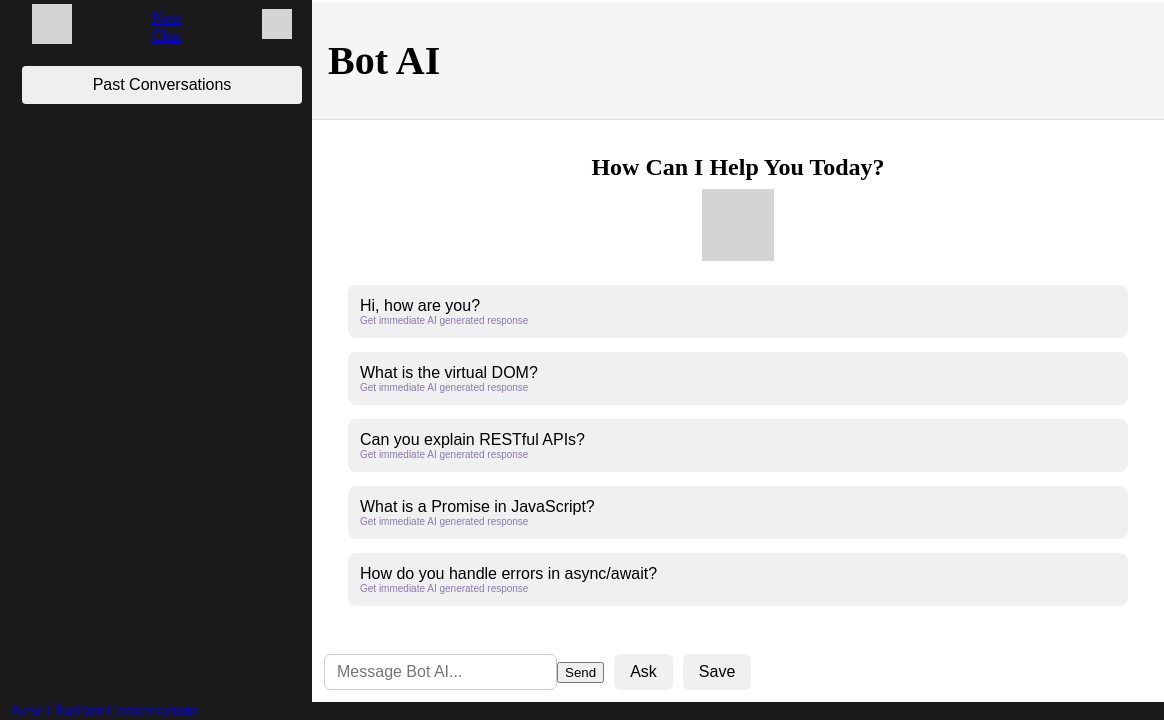
Scenario: Bot AI Application › Should show a default message if the question is not present in the static JSON data
(page scrolled)
Type "What is the capital of Mars?" into the field with placeholder "Message Bot AI...".
click(441, 672); type("What is the capital of Mars?")  # box top-left (324, 654), bottom-right (557, 690)
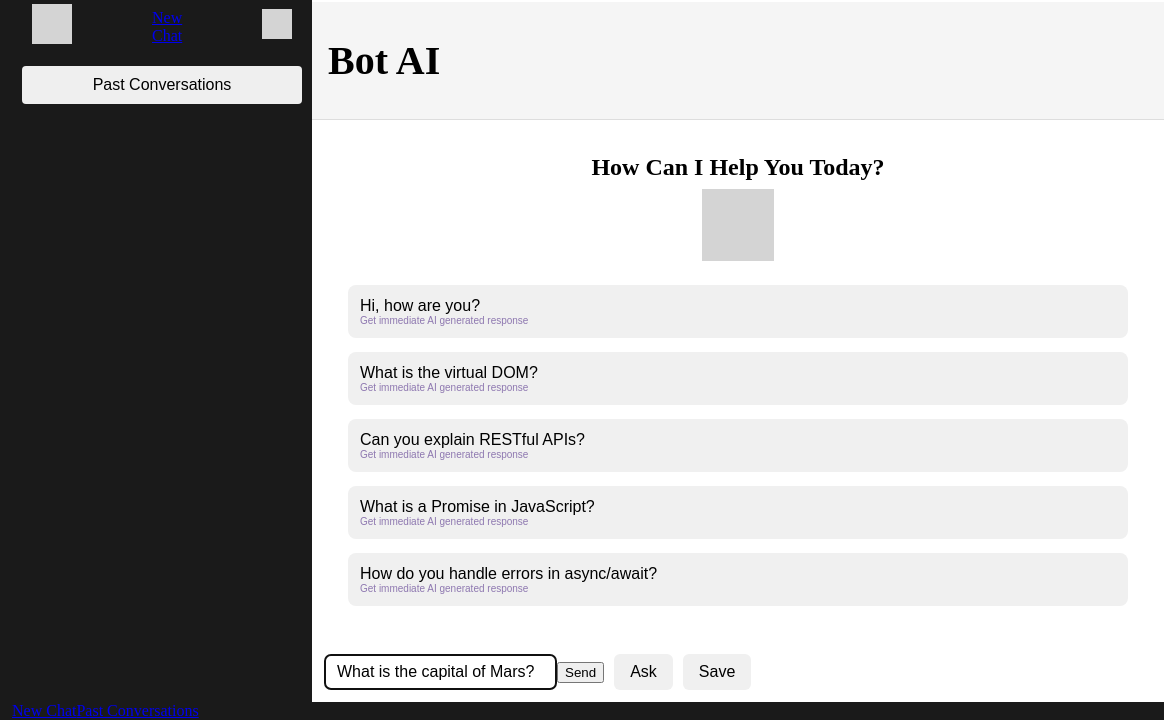
Click the submit button.
click(581, 673)  # box top-left (557, 662), bottom-right (604, 683)
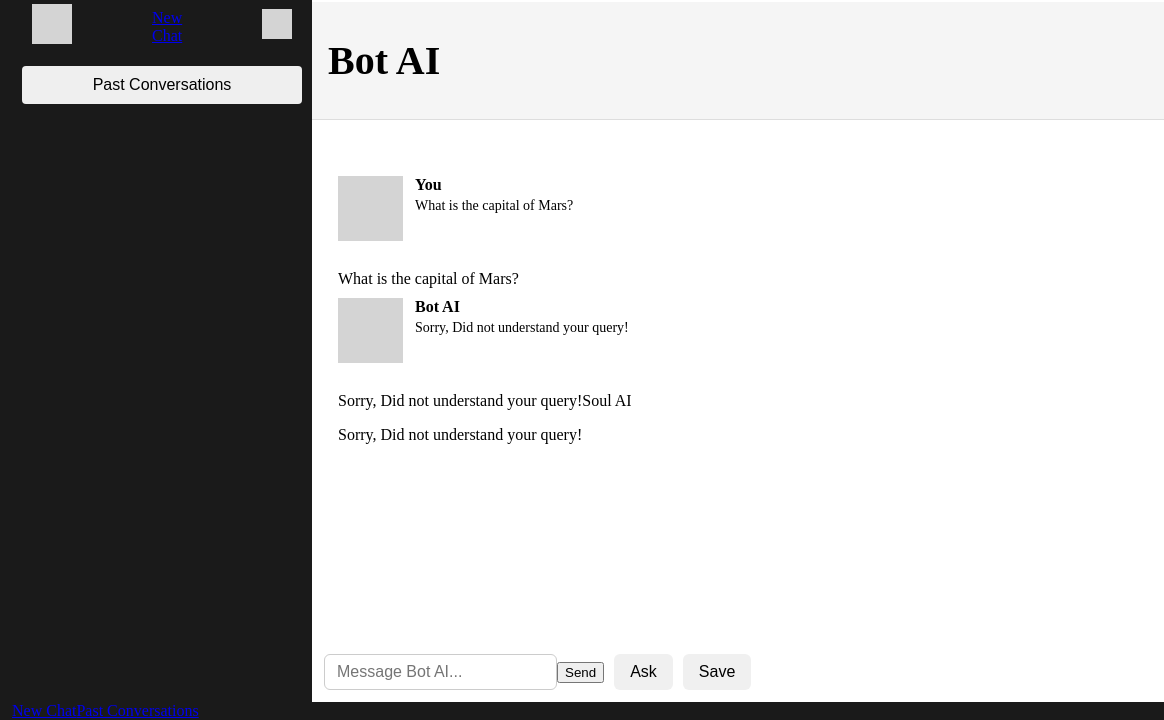
expect the 1st text "Sorry, Did not understand your query!" is shown: met, box top-left (415, 320), bottom-right (629, 335)
